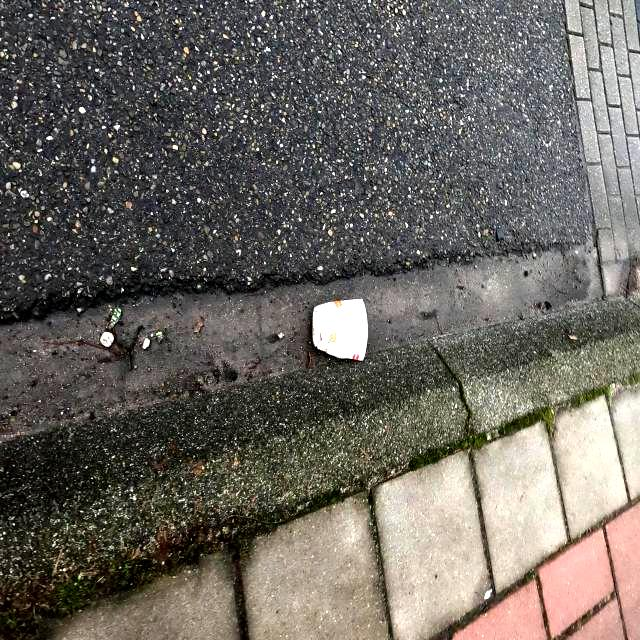Coffee Cup: (310, 296, 368, 362)
